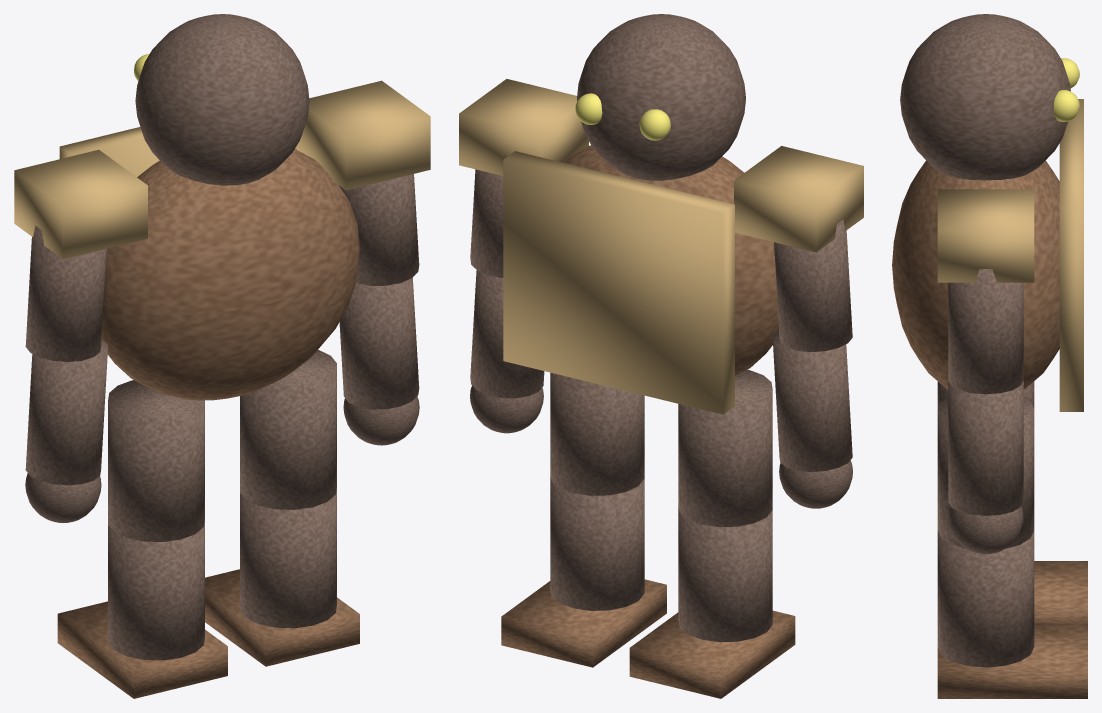
Rendered from fallen-knight.glb.
3 renders of one model, left to right at view 1: azimuth 30°, elevation 25°; view 2: azimuth 150°, elevation 25°; view 3: azimuth 270°, elevation 25°, orthographic. The views are drawn at different scales.
Parts seen in each view (by area): view 1: Torso, Head, ThighL, ThighR, ShinR, ShinL, Pauldron, Pauldron.001, ForearmL, ForearmR, UpperArmL, FootL (+5 smaller); view 2: Chestplate, Head, ThighL, ShinR, ShinL, Pauldron, ThighR, ForearmL, Pauldron.001, FootL, FootR, Torso (+7 smaller); view 3: Head, Torso, ShinR, ForearmR, Pauldron.001, UpperArmR, FootR, Chestplate, ThighR, FootL, HandR, Eye.001 (+2 smaller).
Boxes of the visible parts, <box> form: Torso: <box>101,149,359,400</box>; Head: <box>135,14,309,185</box>; ThighL: <box>108,380,204,541</box>; ThighR: <box>240,349,336,509</box>; ShinR: <box>240,488,336,628</box>; ShinL: <box>108,520,204,660</box>; Pauldron: <box>14,149,147,259</box>; Pauldron.001: <box>297,80,430,190</box>; ForearmL: <box>25,340,108,485</box>; ForearmR: <box>339,277,419,409</box>; UpperArmL: <box>25,225,106,361</box>; FootL: <box>57,601,227,698</box>; Chestplate: <box>503,151,734,414</box>; Head: <box>577,14,745,180</box>; ThighL: <box>678,369,772,527</box>; ShinR: <box>550,475,644,610</box>; ShinL: <box>678,505,772,642</box>; Pauldron: <box>734,146,863,252</box>; ThighR: <box>550,372,644,495</box>; ForearmL: <box>772,331,852,471</box>; Pauldron.001: <box>459,79,588,175</box>; FootL: <box>629,610,795,698</box>; FootR: <box>501,579,666,667</box>; Torso: <box>564,145,778,375</box>; Head: <box>900,14,1070,180</box>; Torso: <box>892,160,1059,389</box>; ShinR: <box>937,531,1034,667</box>; ForearmR: <box>948,381,1023,515</box>; Pauldron.001: <box>937,189,1034,282</box>; UpperArmR: <box>948,269,1023,394</box>; FootR: <box>937,624,1087,698</box>; Chestplate: <box>1059,99,1083,411</box>; ThighR: <box>937,397,1034,548</box>; FootL: <box>1034,561,1087,624</box>; HandR: <box>948,506,1023,554</box>; Eye.001: <box>1053,90,1079,121</box>.
Size of the model in its own units: 0.6367 by 1 by 0.2852.
4 materials, 2 textured.
